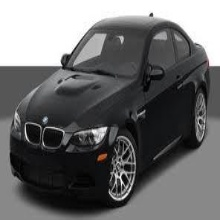no damage: (9, 17, 210, 206)
